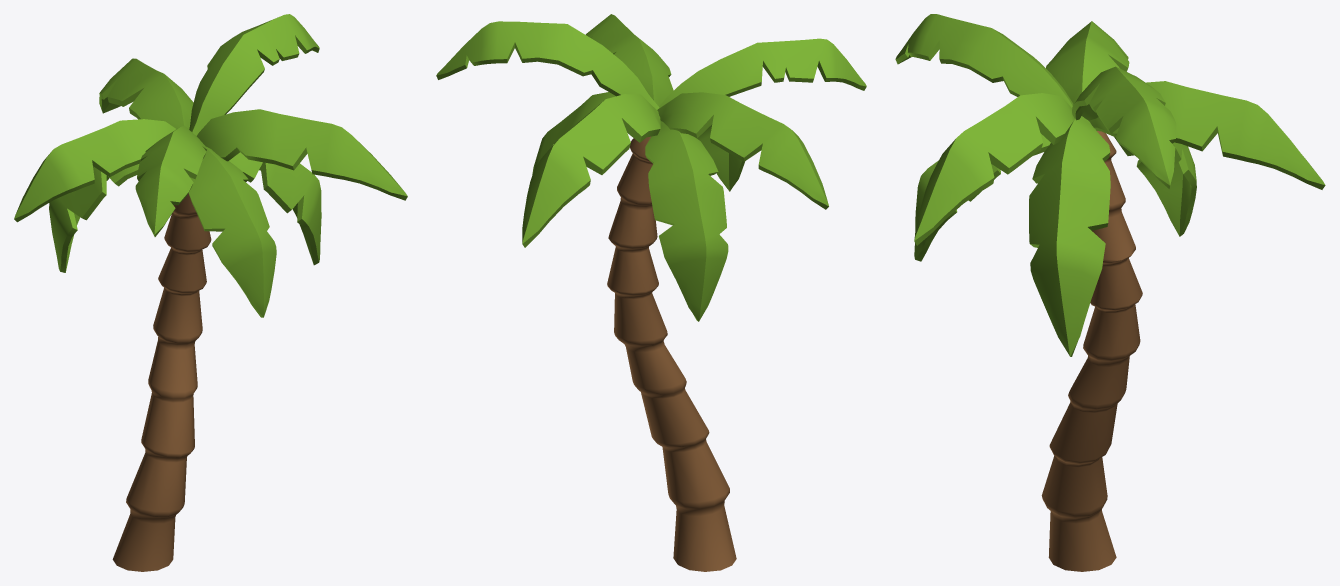
File: palm-a.glb
3 views of the same model, side by side, from view 1: azimuth 30°, elevation 25°; view 2: azimuth 150°, elevation 25°; view 3: azimuth 270°, elevation 25° (orthographic). The views are drawn at different scales.
Visible parts, largest first — view 1: Environment_PalmTree_1; view 2: Environment_PalmTree_1; view 3: Environment_PalmTree_1.
Boxes of the visible parts, box(x1,y1,x2,y2) form: Environment_PalmTree_1: box(14, 14, 407, 571); Environment_PalmTree_1: box(436, 14, 866, 571); Environment_PalmTree_1: box(895, 14, 1325, 571).
Size of the model in its own units: 7.28 by 10 by 7.02.
1 material, 1 textured.
